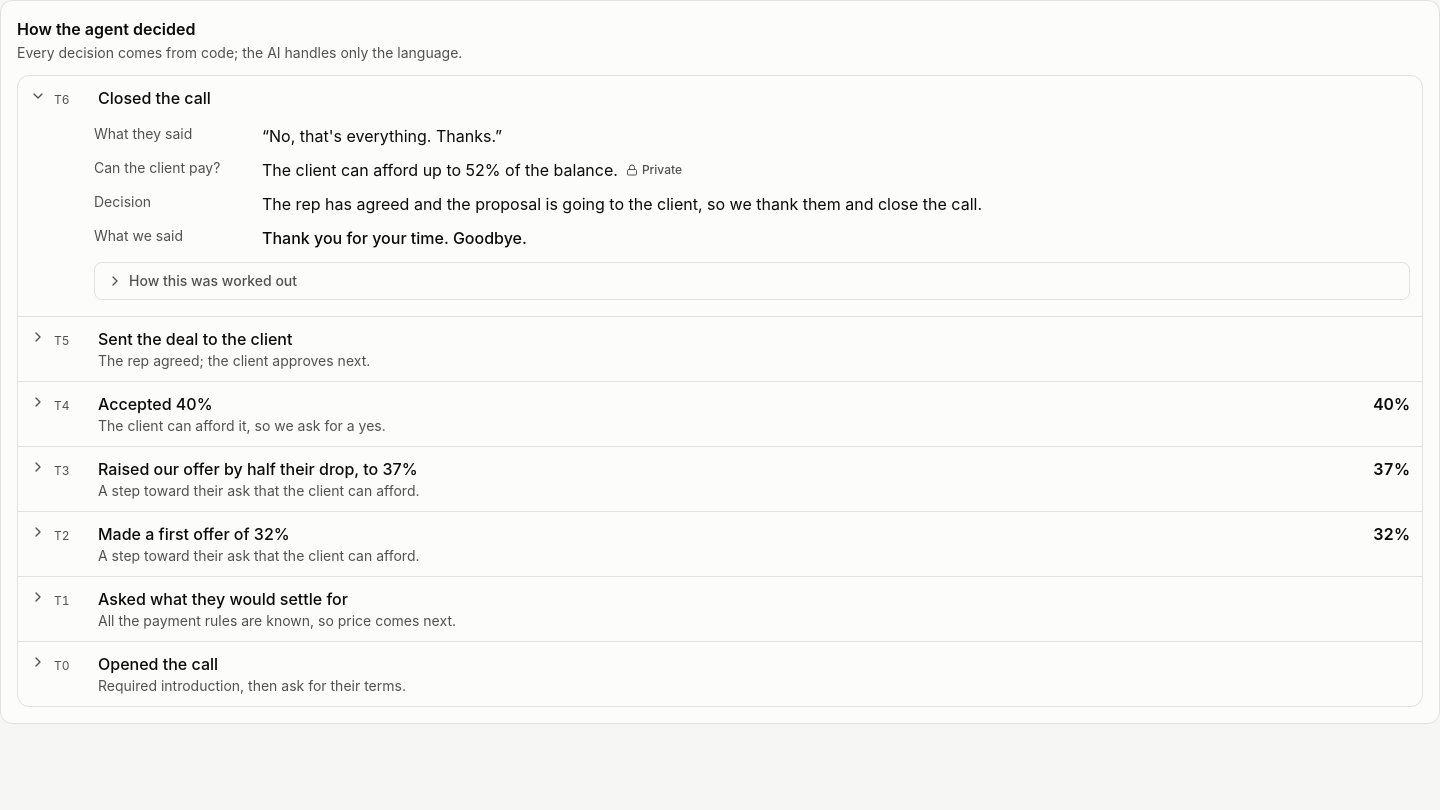
Scenario: DecisionTrace › hides empty lines: the opening has no rep line, nothing heard and no affordability
The image size is (1440, 810).
Step 1. Click the button that starts with "Opened the call" → (158, 664), box [18,642,1422,706]
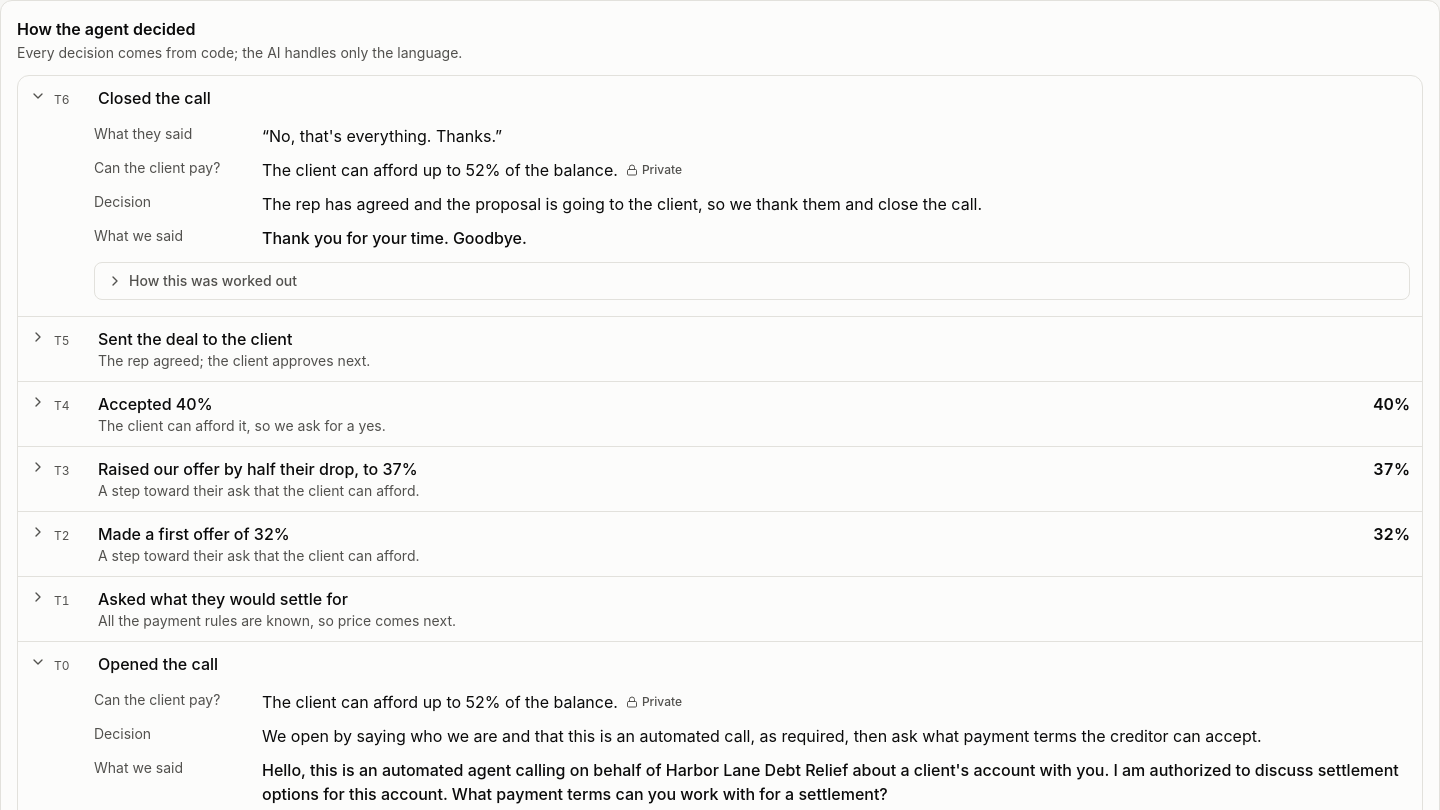
Expected: the 2nd text "Decision" is shown, [94,725,151,742]
